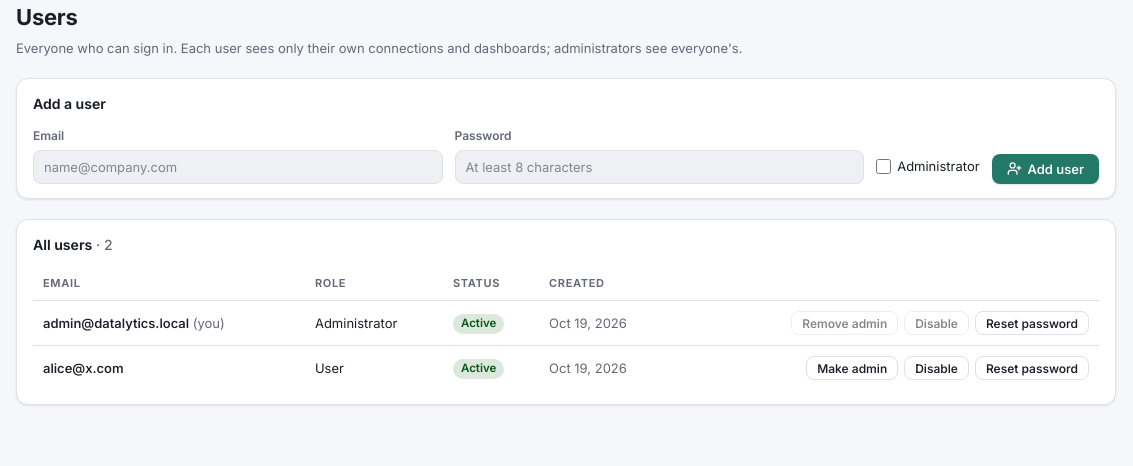
Test case: Users page › shows the server's reason when adding fails
The image size is (1133, 466).
Check: the text "alice@x.com" is shown, box [33,346,305,390]
In the field labelled "Email": (238, 166) [33,150,443,184], type "alice@x.com"
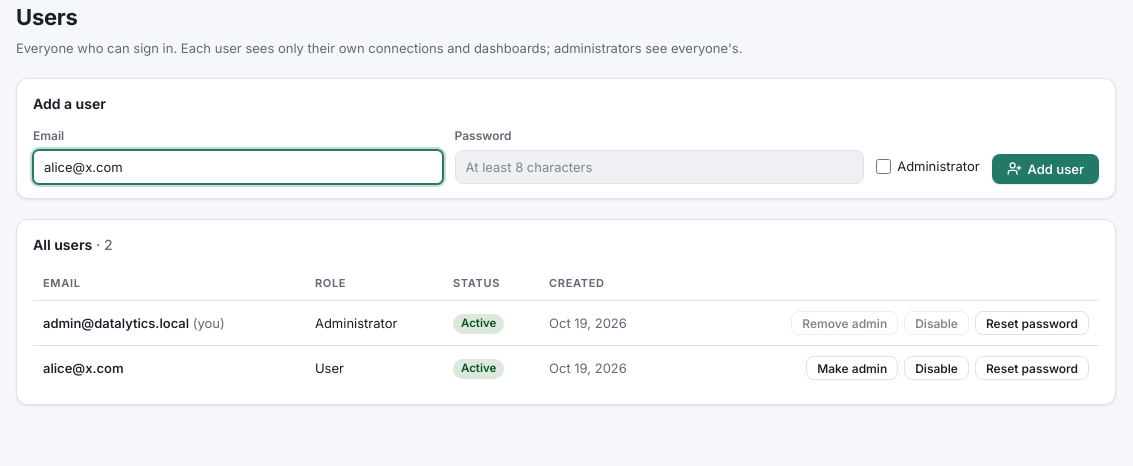
In the password field labelled "Password": (659, 166) [455,150,864,184], type "whatever-123"
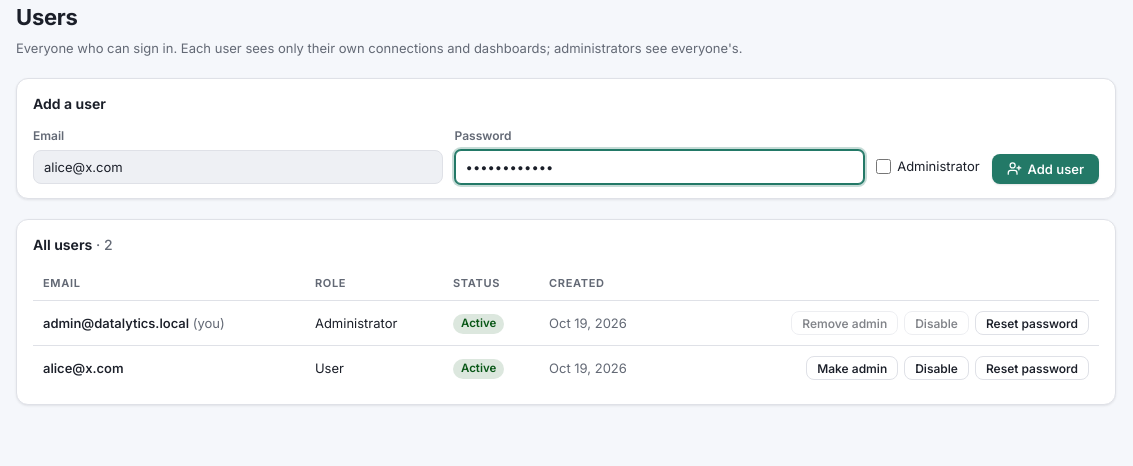
Click the button "Add user": click(1045, 168) [992,154,1099,184]
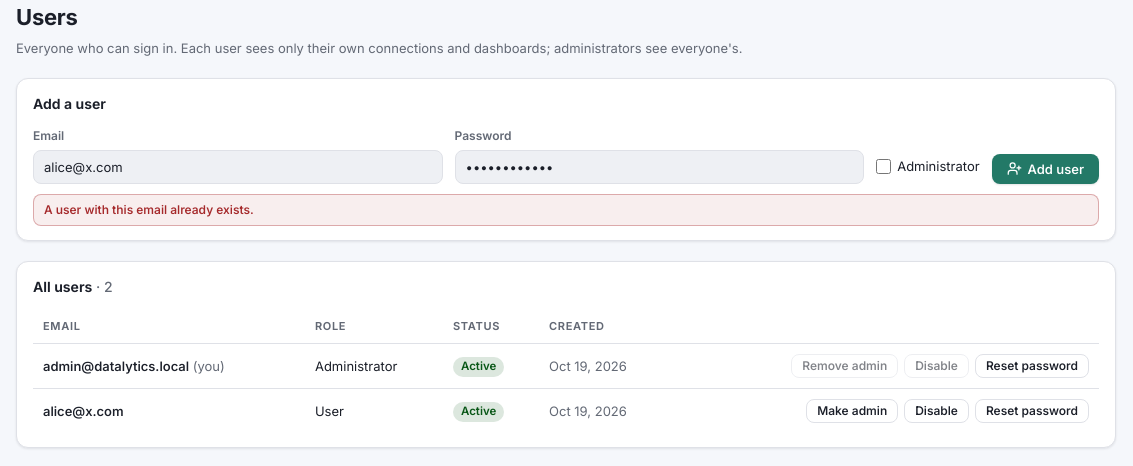
Check: the message shows "already exists", box [44,202,254,216]
